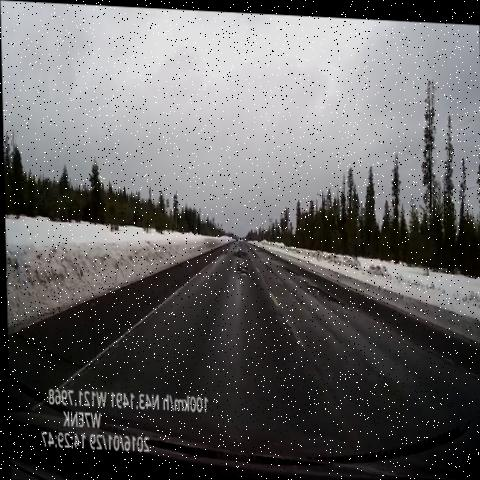pothole: (306, 280, 343, 313), (277, 255, 304, 279), (229, 257, 252, 277), (232, 242, 249, 258), (220, 243, 231, 266)
